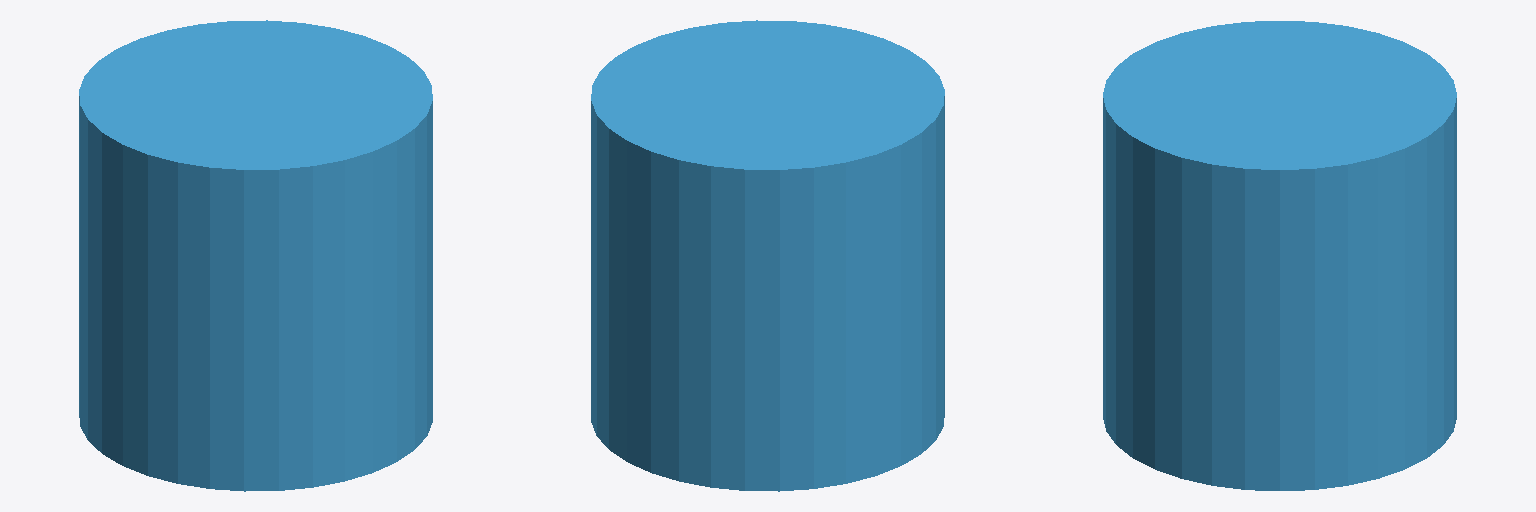
The robot description file, URDF, robot "girona500":
<?xml version="1.0"?>
<robot name="girona500">

  <link name="base_link">
    <visual>
      <origin rpy="0 0 0" xyz="0 0 0"/>
      <geometry>
        <mesh filename="package://udg_pandora/data2/robot2/GIRONA500v2/g500.osg"/>
      </geometry>
    </visual>
  </link>

  <link name="profiler">
    <visual>
      <origin rpy="0.0 0 0" xyz="0 0 0"/>
      <geometry>
        <cylinder radius="0.1" length="0.2"/>
      </geometry>
    </visual>
  </link>

  <joint name="baselink_to_part0" type="continuous">
    <parent link="base_link"/>
    <child link="profiler"/>
    <origin rpy="0 0 0" xyz="0 0 -1.5"/>
  </joint>

 

</robot>

--- Facts derived from the render (not from the file) ---
The picture shows the robot from 3 angles, left to right: view 1: azimuth 30°, elevation 25°; view 2: azimuth 150°, elevation 25°; view 3: azimuth 270°, elevation 25°; orthographic projection.
Model girona500 with 2 links and 1 joints (1 continuous), rooted at base_link, posed all joints at 0.
Visible links, largest first — view 1: profiler; view 2: profiler; view 3: profiler.
Boxes of the visible links, x1,y1,x2,y2 form: profiler: (79,20,432,491); profiler: (591,20,944,491); profiler: (1103,21,1456,490).
Size in the robot's own frame: 0.2 by 0.2 by 0.2 metres.
Meshes: 1 distinct files referenced, 0 mesh visuals loaded (none loaded); not drawn: 1 (reference not matched to a file when rendering).